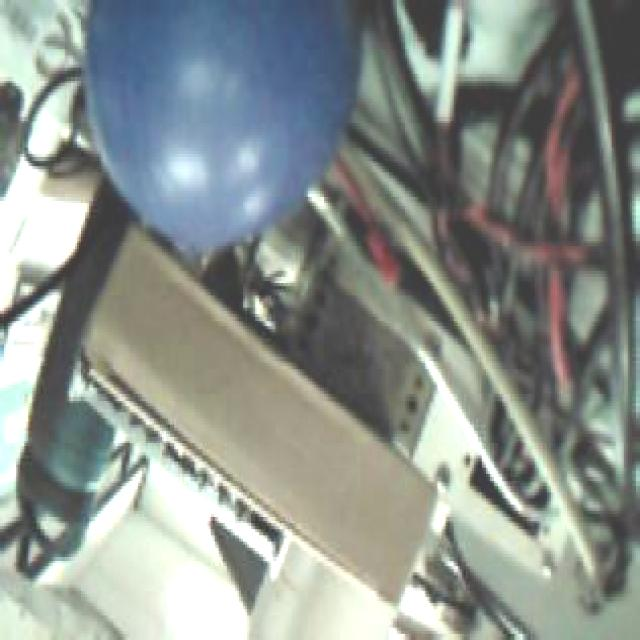BallPurple: (79, 0, 361, 248)
